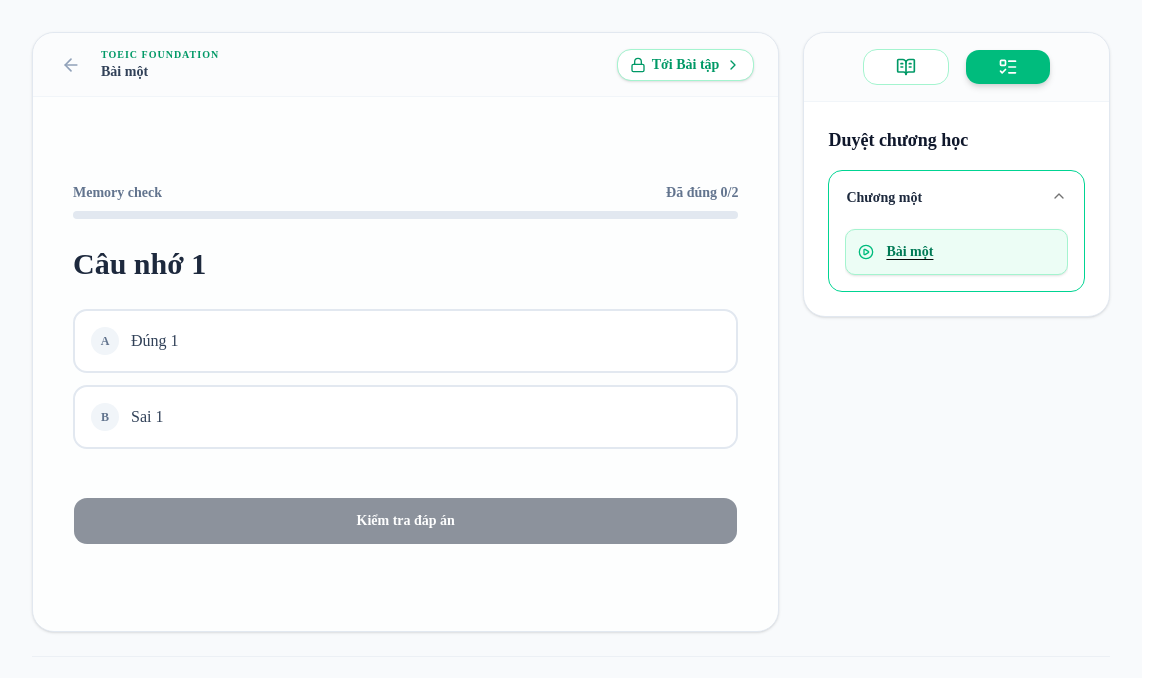
it: D3 memory check stage › keeps the current question and choice on a server error and blocks double submit
This screenshot has width=1152, height=678.
Click the radio button labelled "A Đúng 1" at (155, 340), box left=73, top=309, right=738, bottom=373
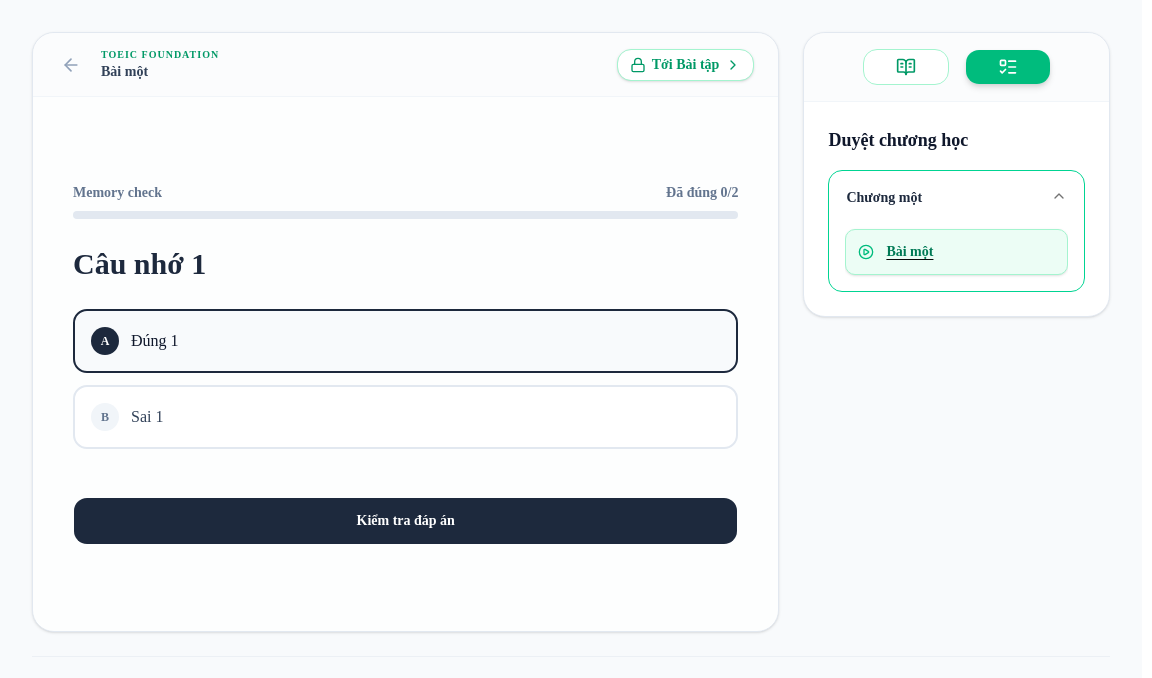
Click the button "Kiểm tra đáp án" at (406, 521), box left=73, top=497, right=738, bottom=545
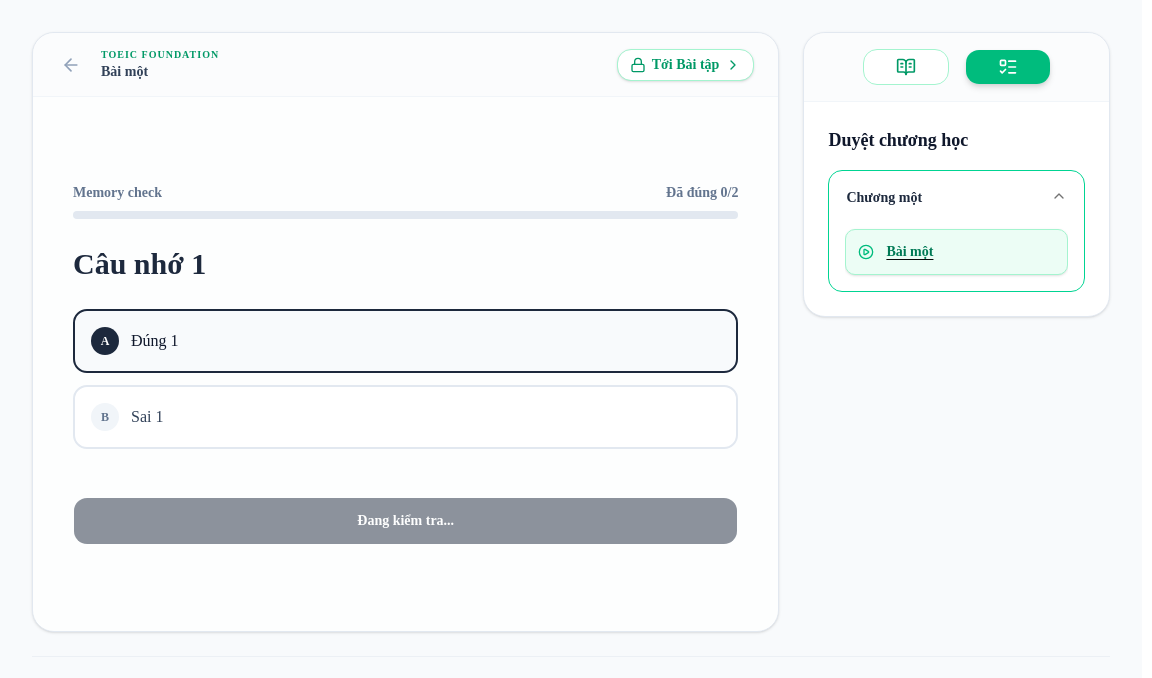
expect the button "Đang kiểm tra..." is disabled: met
Click the button "Đang kiểm tra..." at (406, 521), box left=73, top=497, right=738, bottom=545
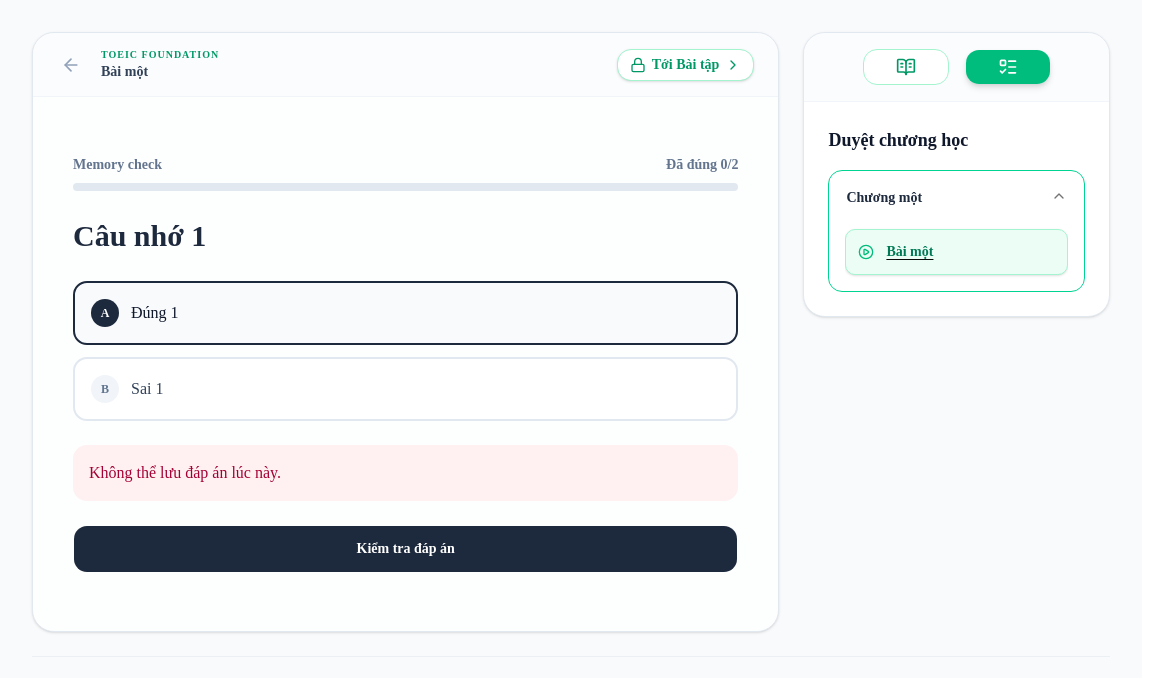
expect the heading "Câu nhớ 1" is shown: met, box left=73, top=219, right=206, bottom=252
expect the message reads "Không thể lưu đáp án lúc này.": met, box left=89, top=464, right=281, bottom=481
expect the button "Kiểm tra đáp án" is enabled: met, box left=73, top=525, right=738, bottom=573
